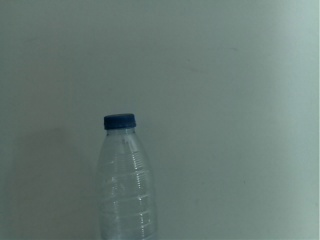botella plastico: (97, 112, 158, 240)
